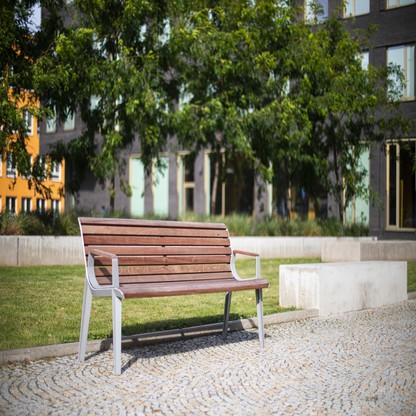obstacle: (65, 218, 273, 366)
